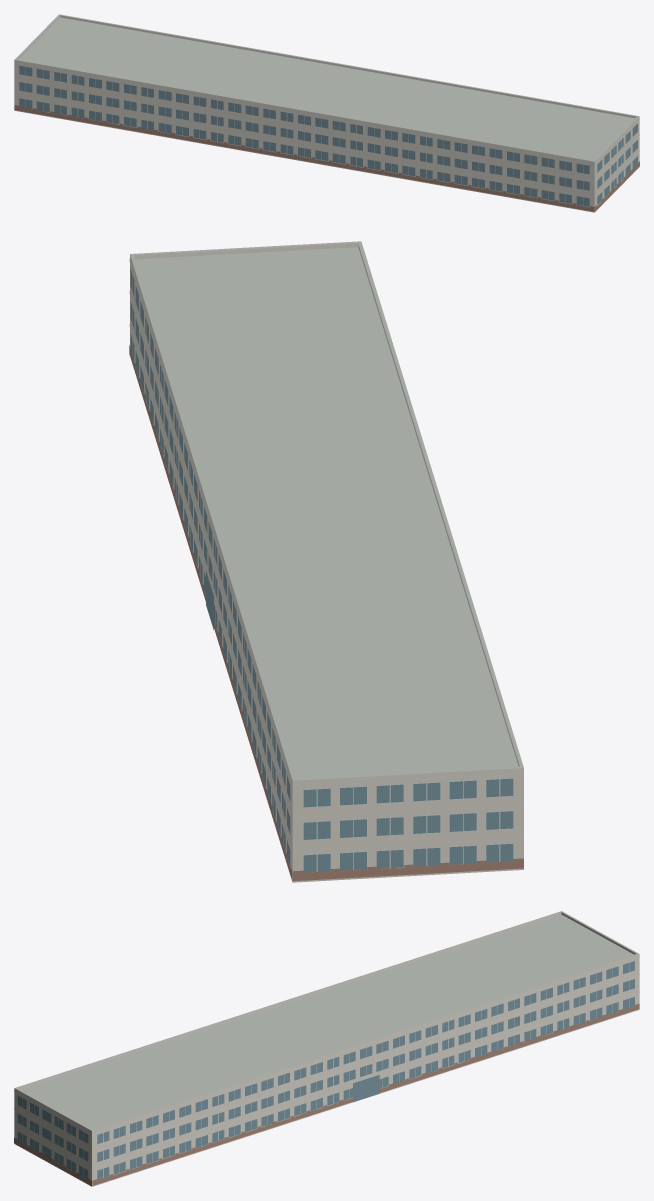
The model's file is public-69366a55-861d-43d2-b33a-88c17138e8d0.glb.
The picture shows the model from 3 angles, top to bottom: view 1: azimuth 30°, elevation 25°; view 2: azimuth 150°, elevation 25°; view 3: azimuth 270°, elevation 25°; orthographic projection. The views are drawn at different scales.
Visible parts, largest first — view 1: public-69366a55-861d-43d2-b33a-88c17138e8d0; view 2: public-69366a55-861d-43d2-b33a-88c17138e8d0; view 3: public-69366a55-861d-43d2-b33a-88c17138e8d0.
Boxes of the visible parts, x1,y1,x2,y2 form: public-69366a55-861d-43d2-b33a-88c17138e8d0: (14, 14, 639, 212); public-69366a55-861d-43d2-b33a-88c17138e8d0: (129, 241, 523, 882); public-69366a55-861d-43d2-b33a-88c17138e8d0: (14, 911, 639, 1186).
Size of the model in its own units: 77.41 by 9.15 by 92.93.
